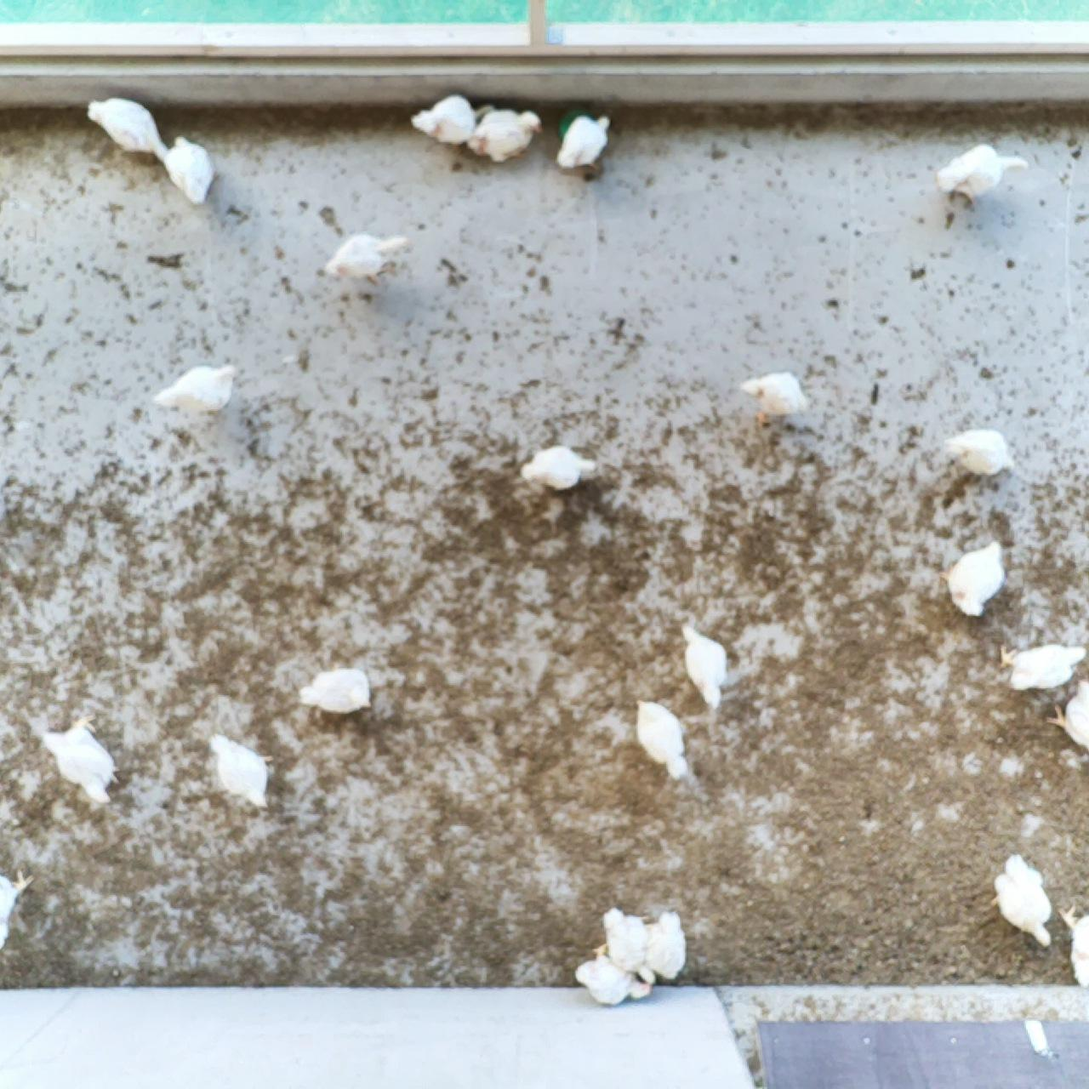chicken: (40, 710, 124, 808), (933, 142, 1029, 215), (990, 852, 1056, 953), (82, 95, 175, 162), (206, 727, 274, 813), (938, 536, 1007, 616), (633, 694, 695, 782), (325, 228, 417, 286), (155, 358, 243, 418), (574, 945, 652, 1008), (603, 904, 657, 987), (998, 639, 1082, 692), (556, 108, 621, 176), (677, 622, 729, 707), (298, 665, 377, 719), (158, 133, 217, 205), (520, 443, 600, 496), (469, 108, 545, 163), (740, 372, 813, 429), (1041, 675, 1089, 758), (943, 424, 1015, 479), (409, 94, 479, 149), (0, 851, 37, 953), (1056, 894, 1089, 992), (646, 907, 688, 982)
